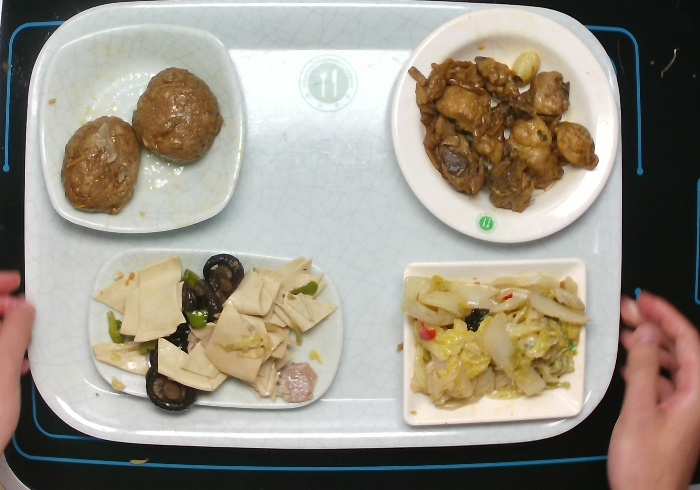WCQzf-Bai_Se_Si_Fang_Die: (397, 254, 593, 431)
WCQzf-Da_Si_Fang_Die: (36, 21, 247, 237)
WCQzf-Kuan_Bian_Yuan_Die: (386, 5, 623, 248)
WCQzf-Tuo_Yuan_Pan: (83, 243, 348, 415)
